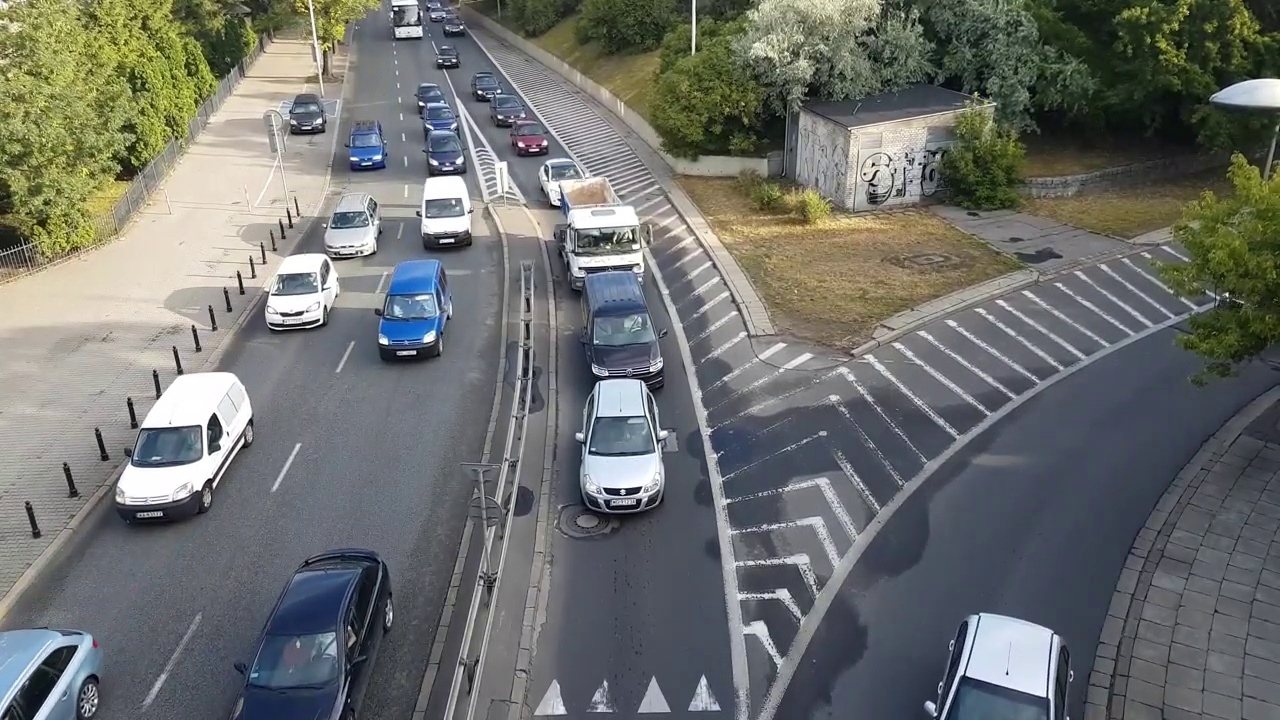car: (230, 542, 391, 720), (113, 375, 249, 529), (922, 613, 1070, 720), (580, 379, 668, 516), (553, 176, 643, 286), (576, 274, 659, 389), (377, 261, 452, 360), (264, 254, 339, 333), (421, 176, 472, 252), (324, 193, 380, 260), (538, 158, 584, 209), (347, 119, 387, 169), (426, 131, 464, 176), (421, 102, 461, 143), (289, 94, 328, 135), (509, 119, 548, 156), (490, 93, 527, 128), (470, 70, 504, 103), (390, 13, 423, 42), (415, 81, 444, 111), (437, 45, 461, 69), (441, 15, 463, 37)
